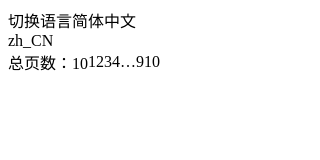
Test: Select 键盘 e2e（aria-activedescendant 浮层导航） › demo03 拓扑（Select 在 Provider 外）：切换后受控值与子树文案同步更新
Expected: the text with test id "code" reads "zh_CN", [8,32,53,49]
Click the dropdown labelled "切换语言 简体中文": (72, 22) [8,13,136,30]
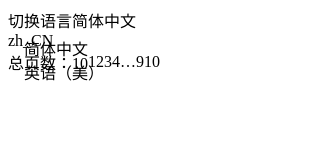
Click the option "英语（美）": (64, 74) [24,65,104,82]
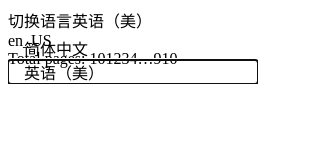
Expected: the text with test id "code" reads "en_US", [8,32,52,49]
Expected: the text "Total pages" is shown, [8,50,106,67]
